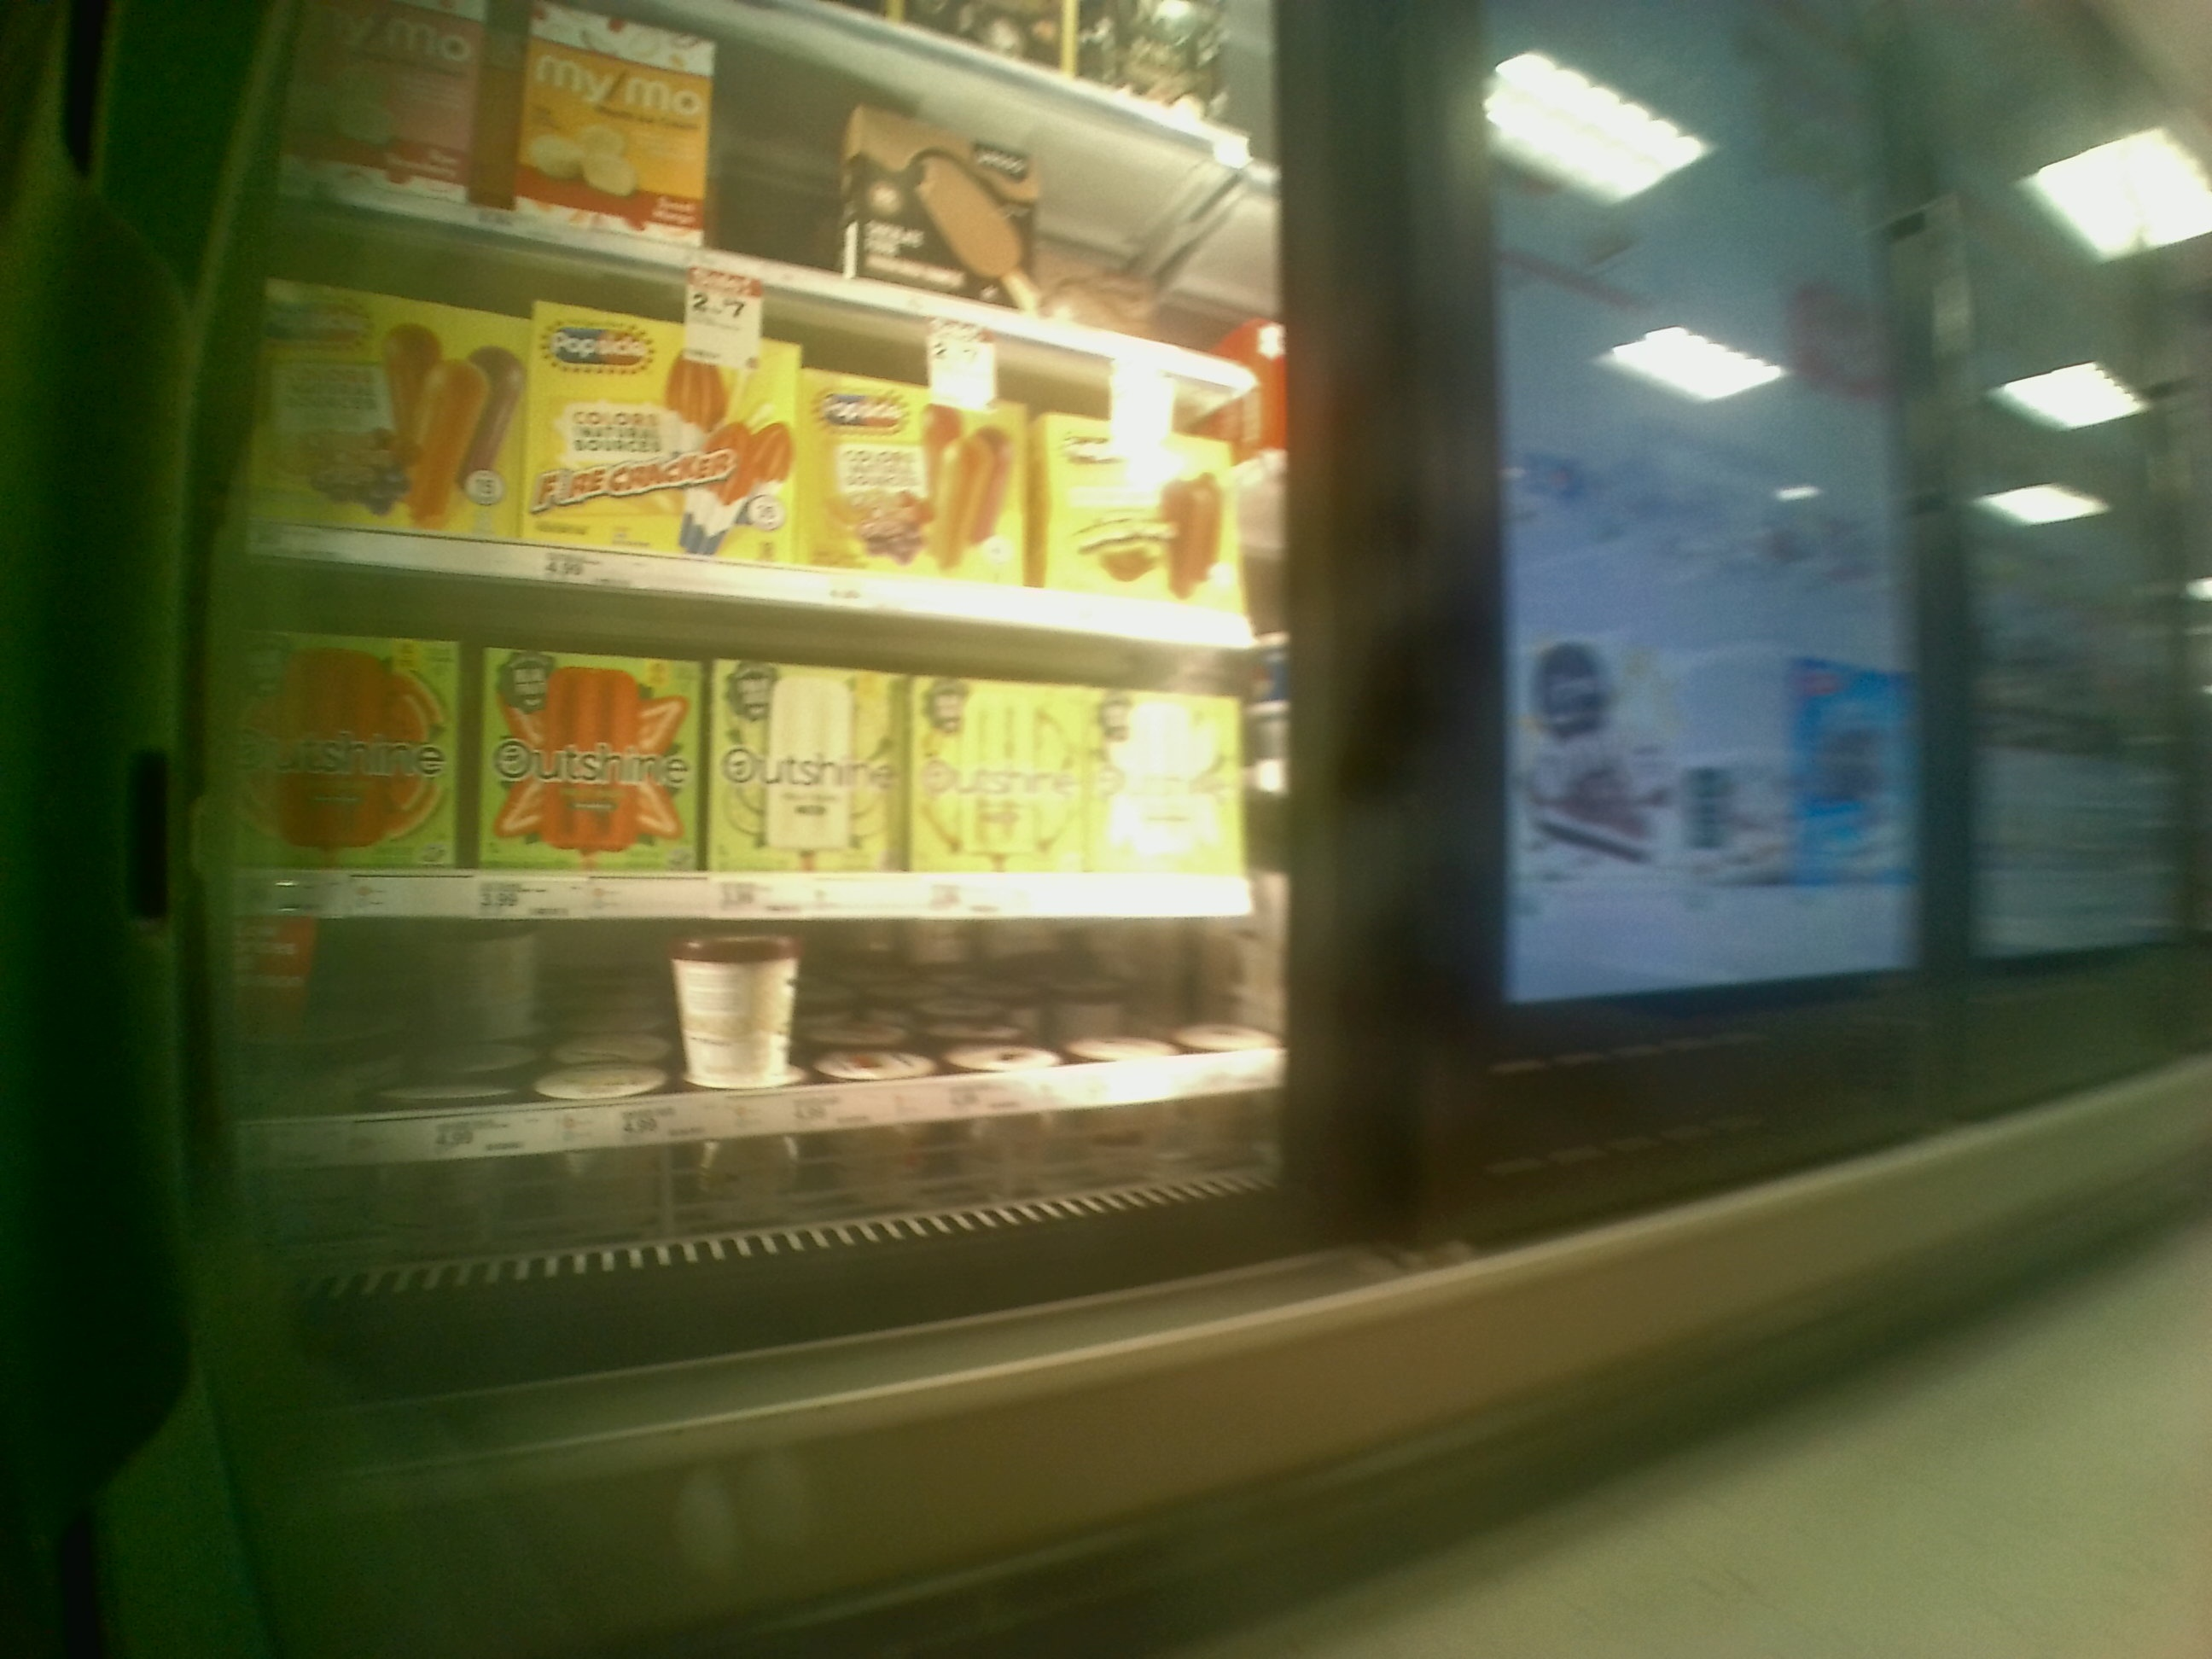ice-cream-shelf: (251, 556, 1292, 917), (249, 915, 1299, 1188)
